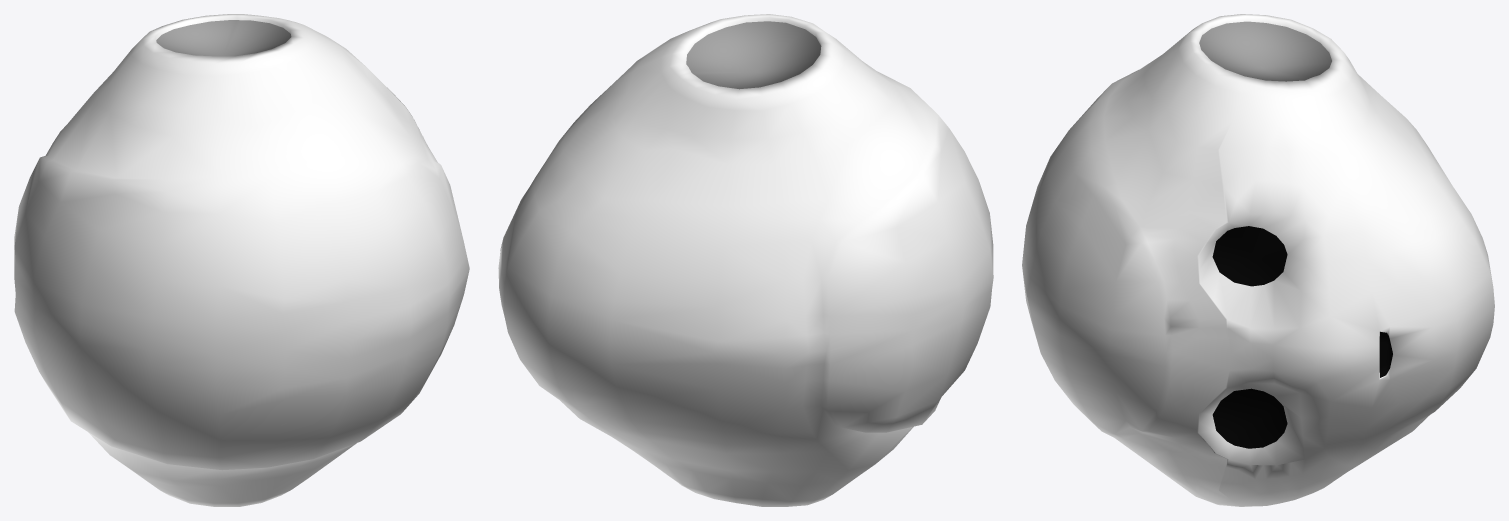
Rendered from HeadPitch.dae.
3 views of the same model, side by side, from view 1: azimuth 30°, elevation 25°; view 2: azimuth 150°, elevation 25°; view 3: azimuth 270°, elevation 25° (orthographic).
Parts seen in each view (by area): view 1: HeadPitch; view 2: HeadPitch; view 3: HeadPitch.
Part boxes in pixels (<box>): HeadPitch: <box>14,14,469,506</box>; HeadPitch: <box>498,14,993,506</box>; HeadPitch: <box>1022,14,1494,506</box>.
Size of the model in its own units: 2.1 by 2.16 by 2.09.
Materials: 4 (4 with a texture image).
